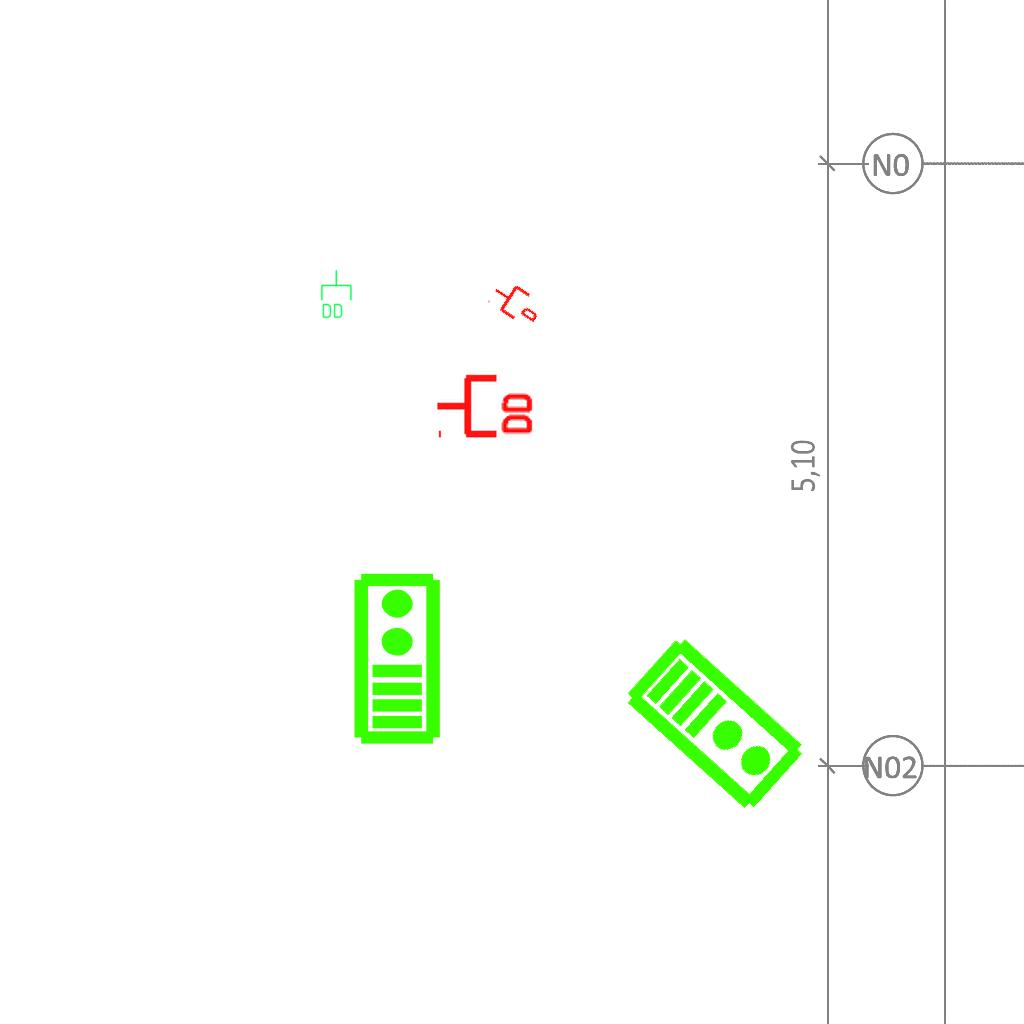Datenanschluss_einfach: (485, 275, 547, 331)
Datenanschluss_zweifach: (434, 370, 537, 439), (319, 269, 353, 320)
Gegensprechanlage_mit_Video: (619, 628, 814, 818), (348, 570, 443, 746)
